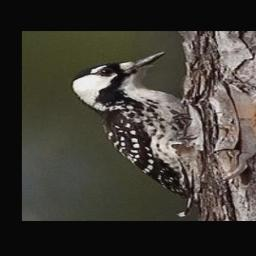Woodpecker: (66, 50, 206, 198)
